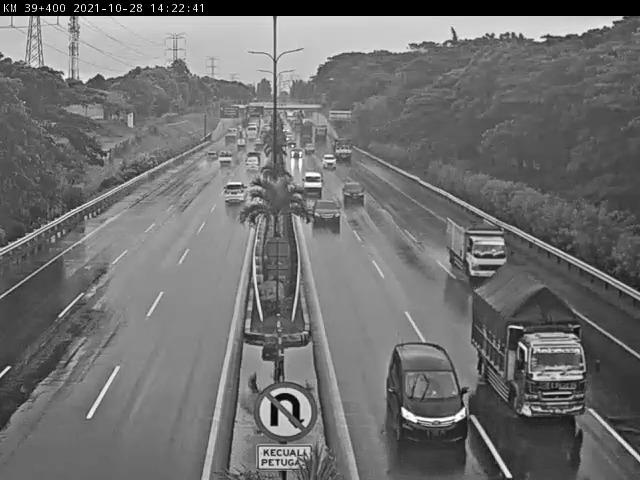big truck: (472, 280, 590, 419)
car: (376, 341, 469, 453), (310, 198, 343, 231), (222, 180, 251, 207), (342, 183, 367, 208), (243, 151, 266, 174), (335, 140, 356, 162), (303, 175, 324, 197), (320, 154, 341, 172), (218, 151, 234, 169), (202, 149, 218, 164)
small truck: (445, 214, 514, 282), (232, 137, 248, 151)
